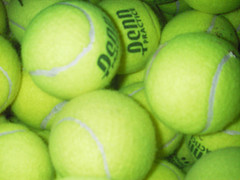tennis ball: (144, 31, 240, 138), (47, 89, 158, 180), (21, 1, 121, 99), (93, 1, 162, 75), (124, 78, 179, 158), (11, 71, 68, 130), (161, 10, 239, 48), (1, 119, 51, 178), (174, 124, 240, 165), (6, 1, 69, 43), (186, 145, 239, 180), (1, 34, 21, 115), (142, 159, 186, 180), (180, 1, 240, 14)
